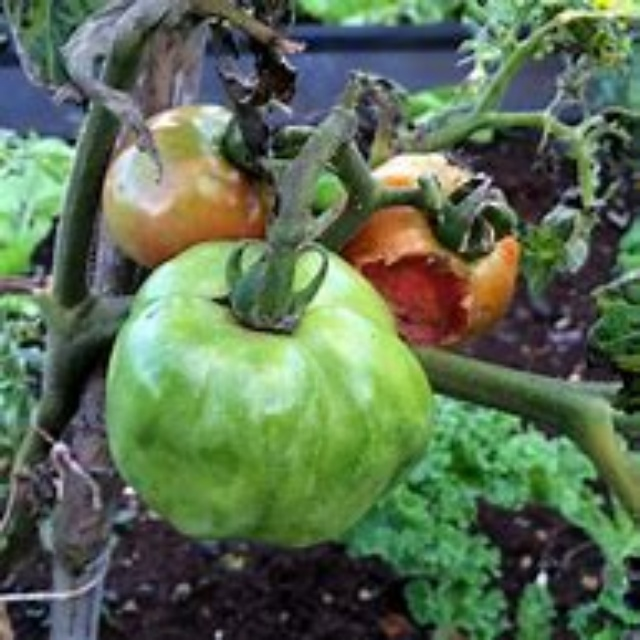tomato: (118, 241, 430, 547), (325, 147, 531, 355), (93, 89, 284, 270)
